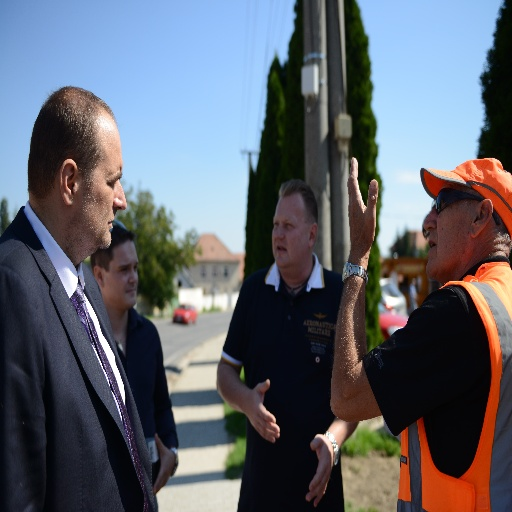hand: (299, 425, 350, 508), (346, 156, 376, 246), (249, 378, 279, 442), (153, 434, 175, 494)
